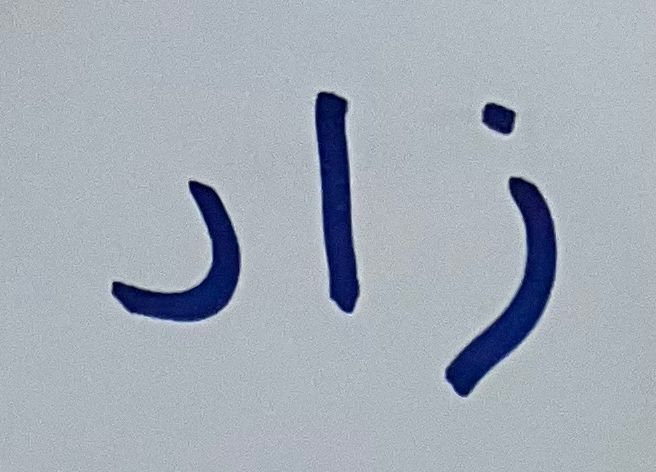alef: (286, 62, 402, 340)
dal: (69, 147, 258, 340)
reh: (441, 88, 586, 412)
